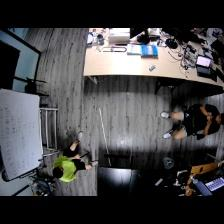normal: (161, 103, 224, 142), (53, 131, 97, 181)
